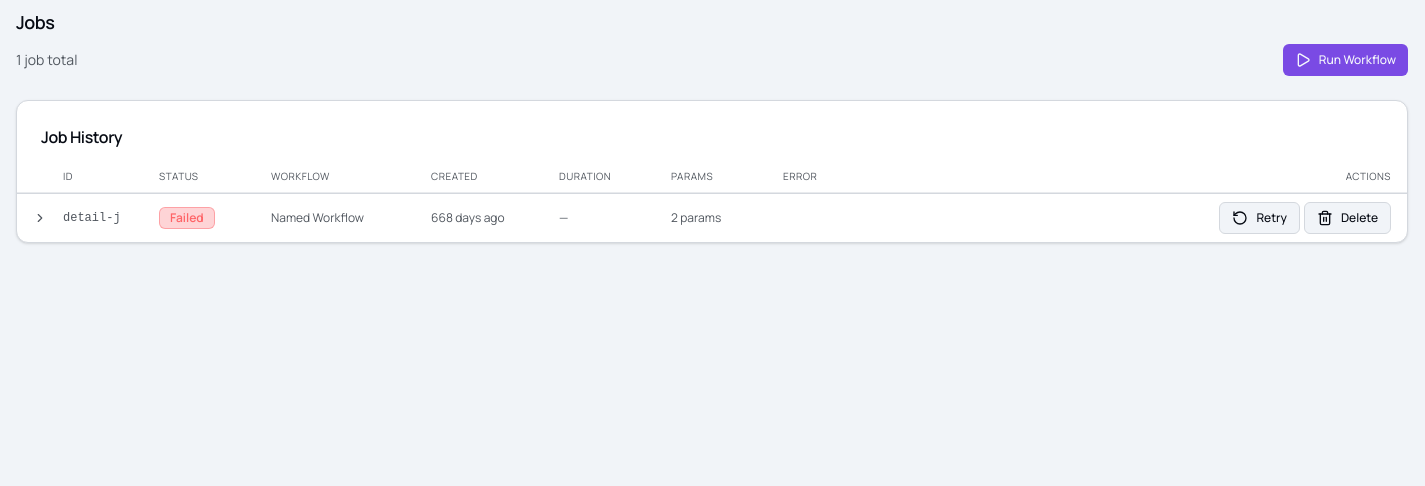
JobsPage history actions › shows workflow source and full params JSON in expanded details
The image size is (1425, 486).
Click the button "detail-j": (92, 218) [33, 203, 1247, 233]
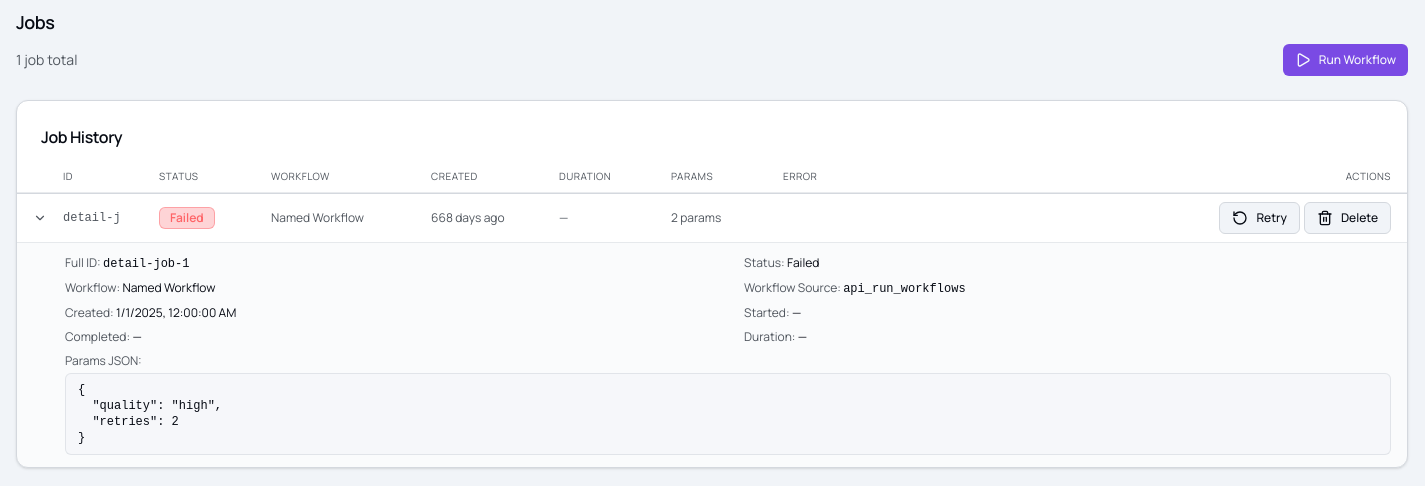
Check: the text "api_run_workflows" is shown, box [843, 282, 966, 296]
